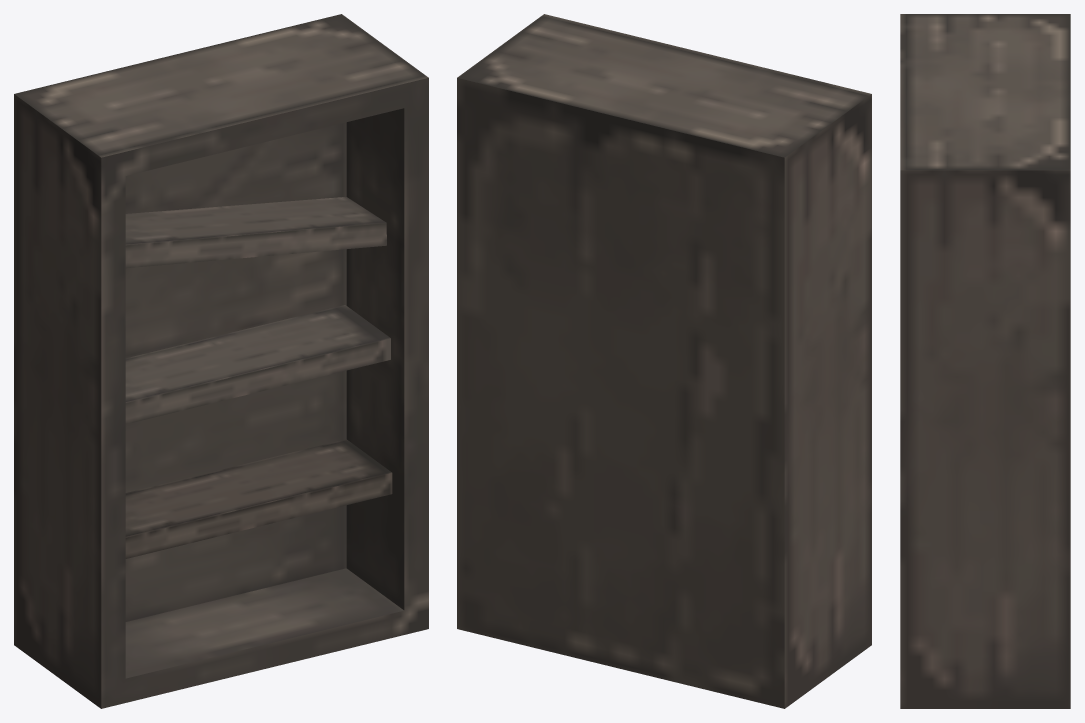
File: brokenBooKSHLF3.fbx
3 renders of one model, left to right at view 1: azimuth 30°, elevation 25°; view 2: azimuth 150°, elevation 25°; view 3: azimuth 270°, elevation 25°, orthographic. The views are drawn at different scales.
Parts seen in each view (by area): view 1: BrokenBookSHLF3; view 2: BrokenBookSHLF3; view 3: BrokenBookSHLF3.
Boxes of the visible parts, x1,y1,x2,y2 form: BrokenBookSHLF3: (14, 14, 428, 708); BrokenBookSHLF3: (457, 14, 871, 708); BrokenBookSHLF3: (900, 14, 1070, 708).
Bounding box in the file's own units: 1101 × 1770 × 507.
